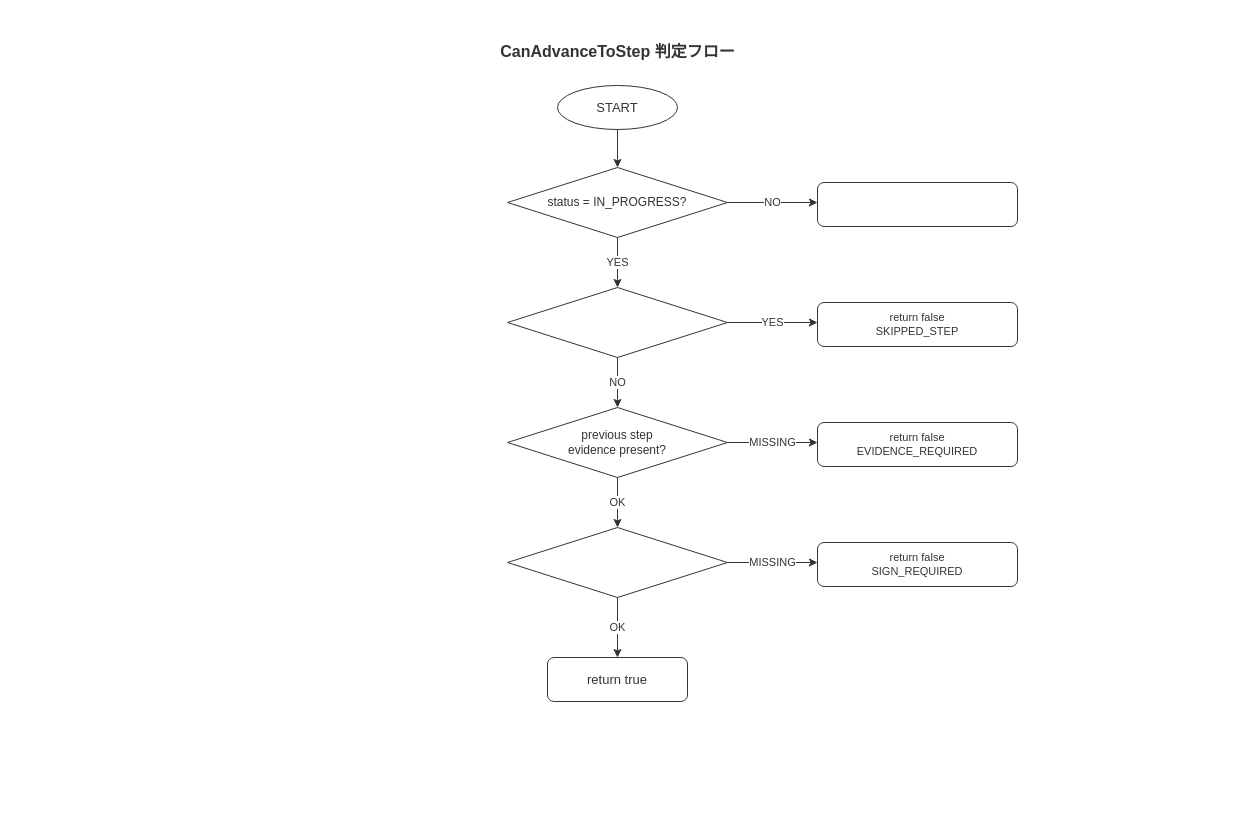
Image size: 1234x834. Some labels were removed from this diagram. Here are the shapes that lost their labels. From the top down, the centre of each, then its label:
(x=917, y=204): return false EXECUTION_NOT_ACTIVE
(x=617, y=322): target > current+1?
(x=617, y=562): previous step signature present?
